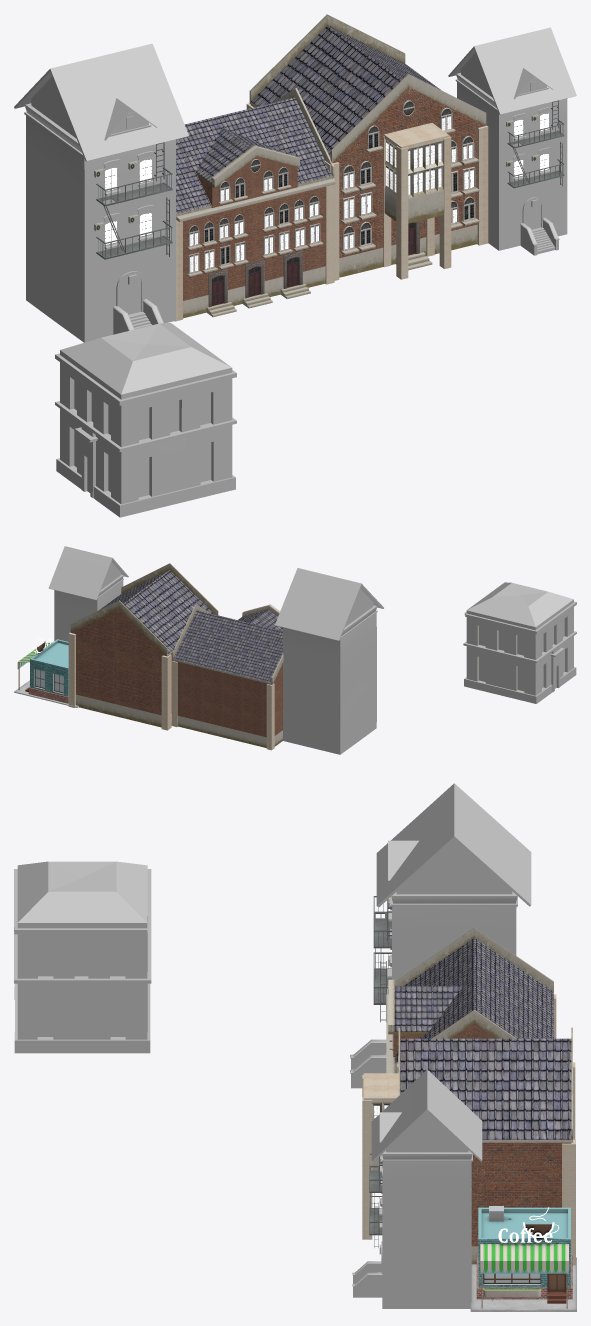
Rendered from Building07.fbx.
3 views of the same model, one above another, from view 1: azimuth 30°, elevation 25°; view 2: azimuth 150°, elevation 25°; view 3: azimuth 270°, elevation 25° (orthographic). The views are drawn at different scales.
Visible parts, largest first — view 1: MeshBaker__13__mesh_mesh; view 2: MeshBaker__13__mesh_mesh; view 3: MeshBaker__13__mesh_mesh.
Boxes of the visible parts, <box> form: MeshBaker__13__mesh_mesh: <box>14,14,576,517</box>; MeshBaker__13__mesh_mesh: <box>14,546,576,754</box>; MeshBaker__13__mesh_mesh: <box>14,783,576,1311</box>.
Size of the model in its own units: 5362 by 2113 by 3837.
